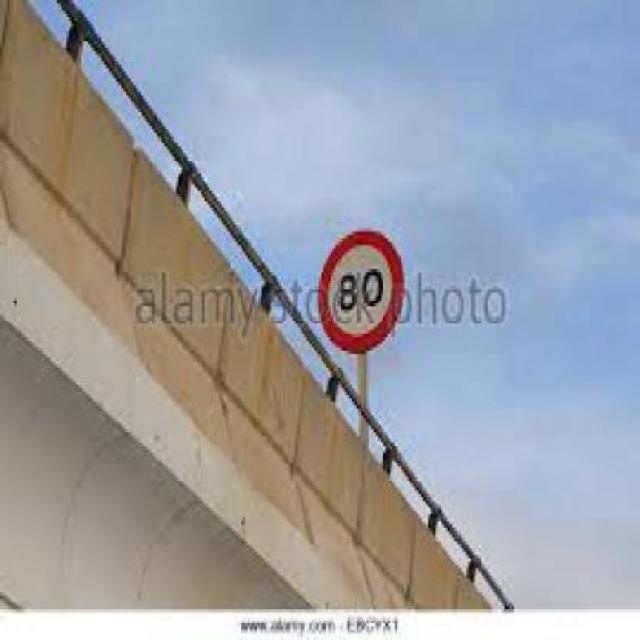forb_speed_over_80: (322, 237, 399, 346)
